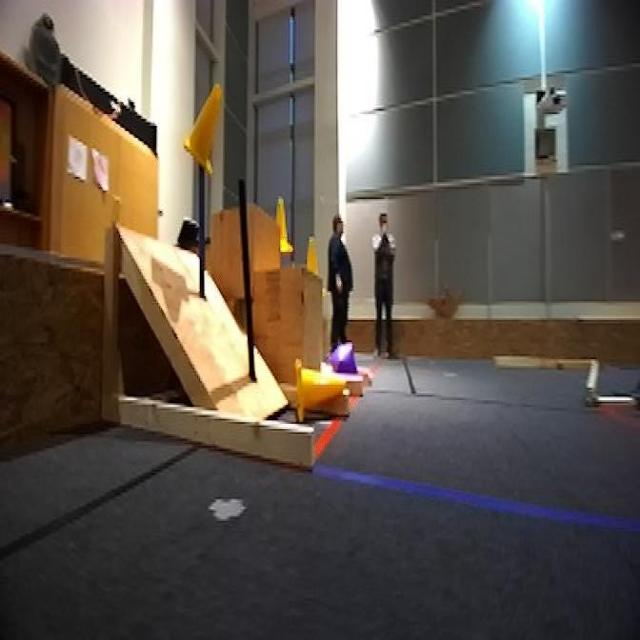frc_cone: (180, 82, 225, 170), (294, 364, 348, 424), (272, 196, 296, 258), (305, 240, 321, 279)
frc_cube: (331, 344, 359, 385)
